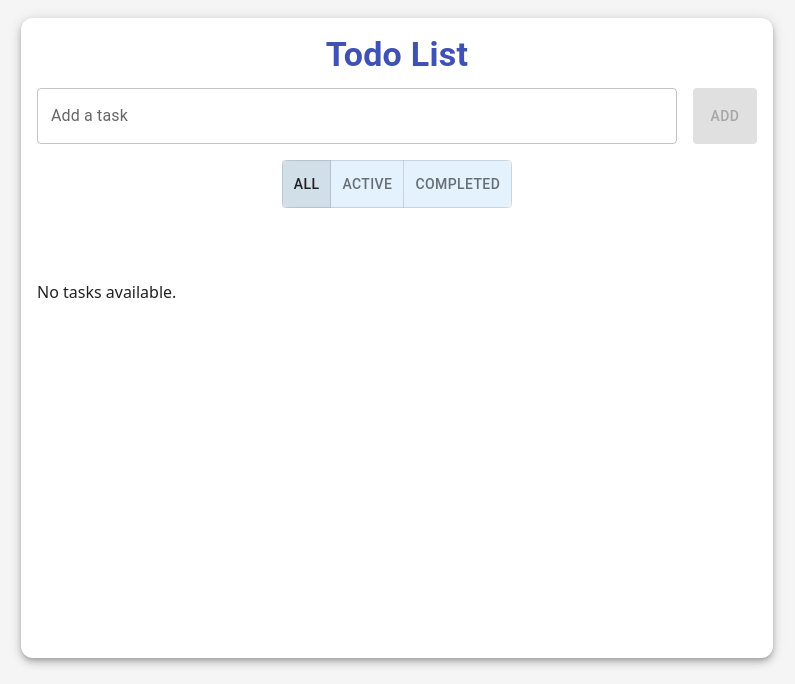
Test: App Component › filters tasks to show only active tasks
The image size is (795, 684).
Type "Active Task" into the field labelled "Add a task" at (357, 116), box [37,88,677,144]
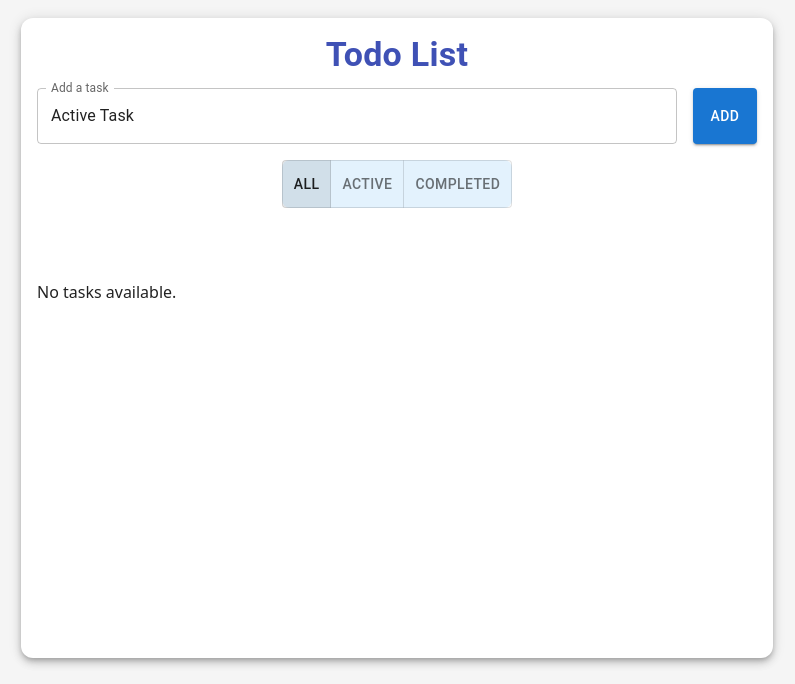
Click the button "Add" at (725, 116), box [693,88,757,144]
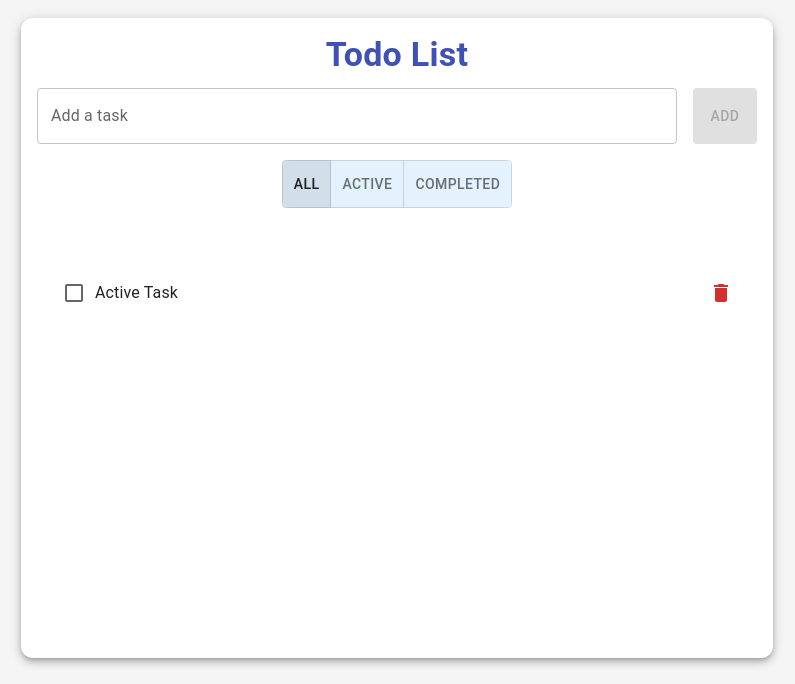
Type "Completed Task" into the field labelled "Add a task" at (357, 116), box [37,88,677,144]
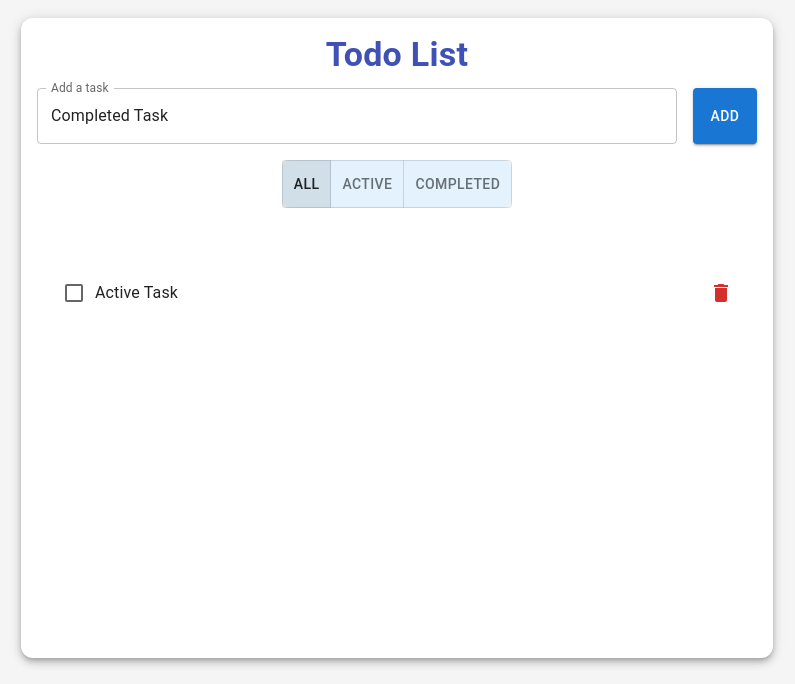
Click the button "Add" at (725, 116), box [693,88,757,144]
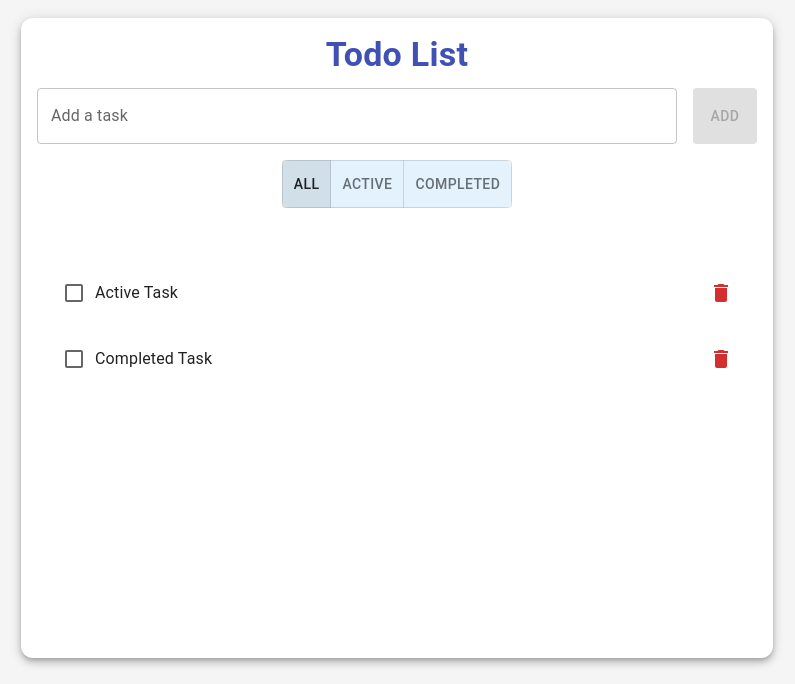
Click the checkbox named "Mark as complete" at (74, 359), box [62,347,86,371]
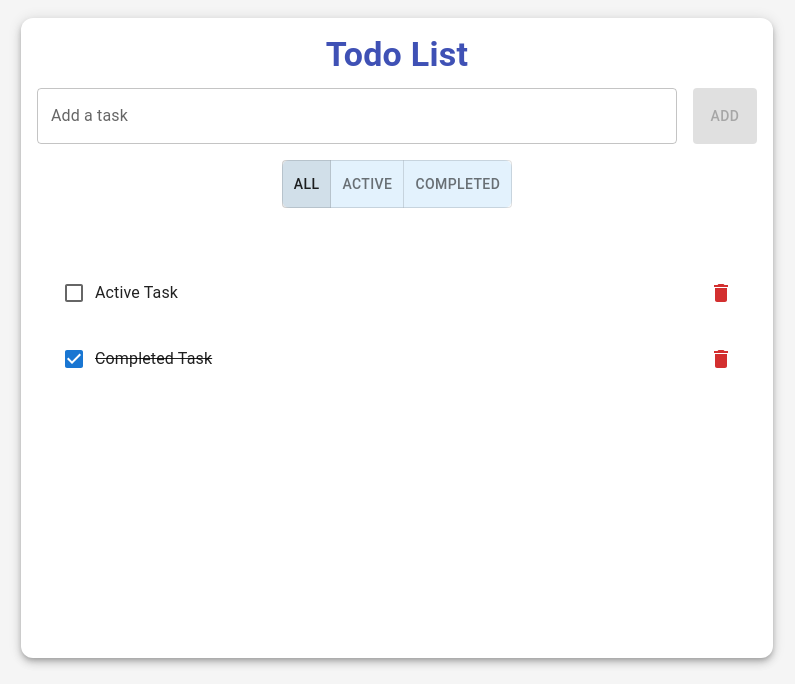
Click the button "Active" at (368, 184), box [330,160,404,208]
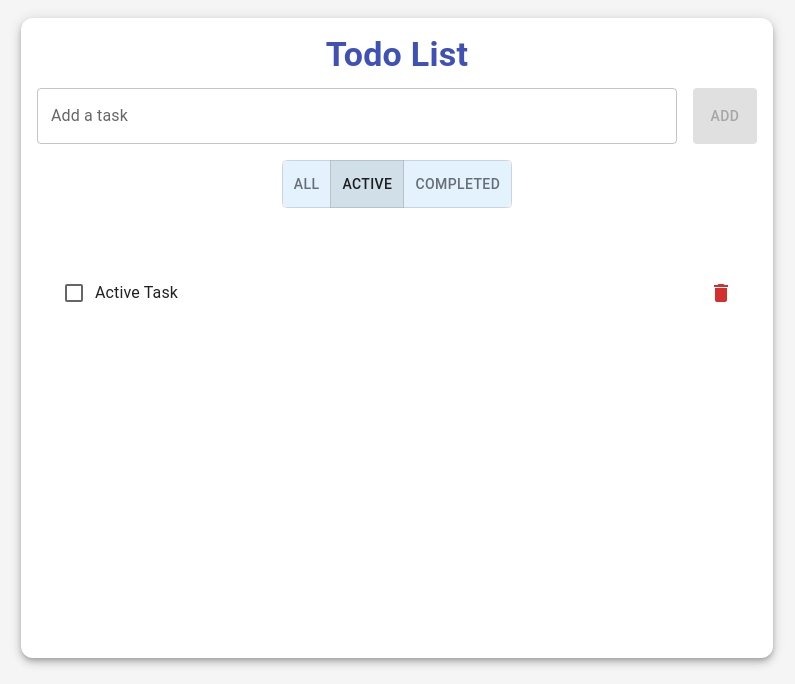
expect the text "Active Task" is shown: met, box [95,283,178,302]
expect the text "Completed Task" is gone: met
